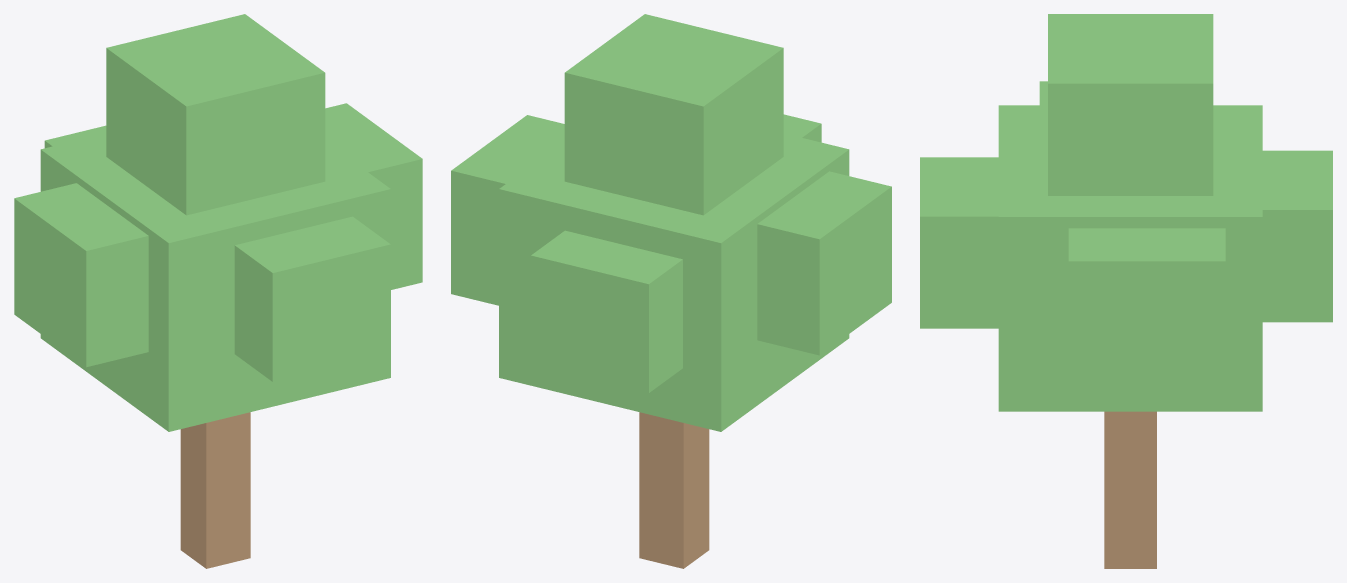
The model's file is deciduous.gltf.
3 views of the same model, side by side, from view 1: azimuth 30°, elevation 25°; view 2: azimuth 150°, elevation 25°; view 3: azimuth 270°, elevation 25° (orthographic). The views are drawn at different scales.
Parts seen in each view (by area): view 1: foliage (×6), trunk; view 2: foliage (×6), trunk; view 3: foliage (×5), trunk.
Boxes of the visible parts, x1,y1,x2,y2 form: foliage (×6): [14, 14, 422, 431]; trunk: [180, 412, 250, 568]; foliage (×6): [451, 14, 891, 431]; trunk: [639, 412, 709, 568]; foliage (×5): [920, 14, 1332, 411]; trunk: [1104, 411, 1156, 568].
Size of the model in its own units: 2.52 by 3.4 by 2.5.
